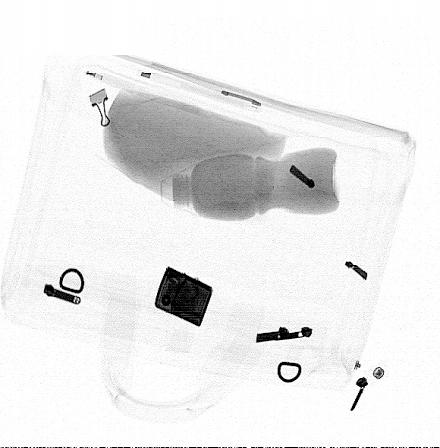Lighter: (154, 265, 212, 328)
